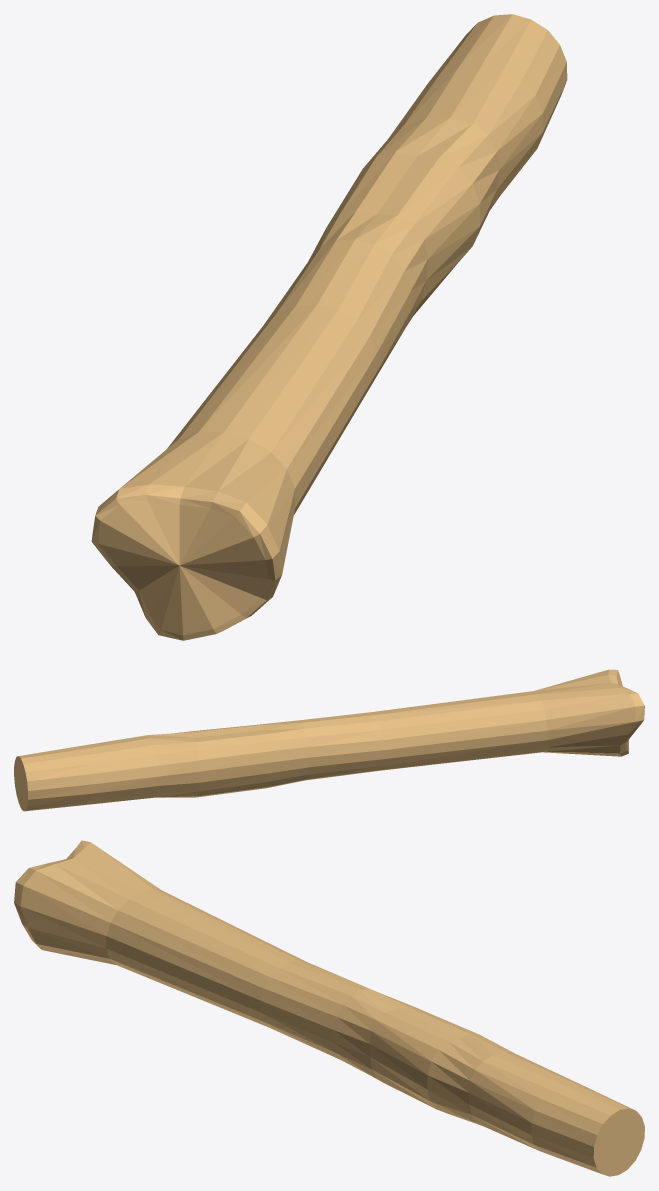
Rendered from wooden_handle.glb.
3 renders of one model, top to bottom at view 1: azimuth 30°, elevation 25°; view 2: azimuth 150°, elevation 25°; view 3: azimuth 270°, elevation 25°, orthographic. The views are drawn at different scales.
Visible parts, largest first — view 1: wooden_handle; view 2: wooden_handle; view 3: wooden_handle.
Part boxes in pixels (x1,y1,x2,y2): wooden_handle: [91, 14, 567, 640]; wooden_handle: [14, 669, 644, 811]; wooden_handle: [14, 840, 644, 1176].
Bounding box in the file's own units: 0.4441 × 0.0706 × 0.4357.
